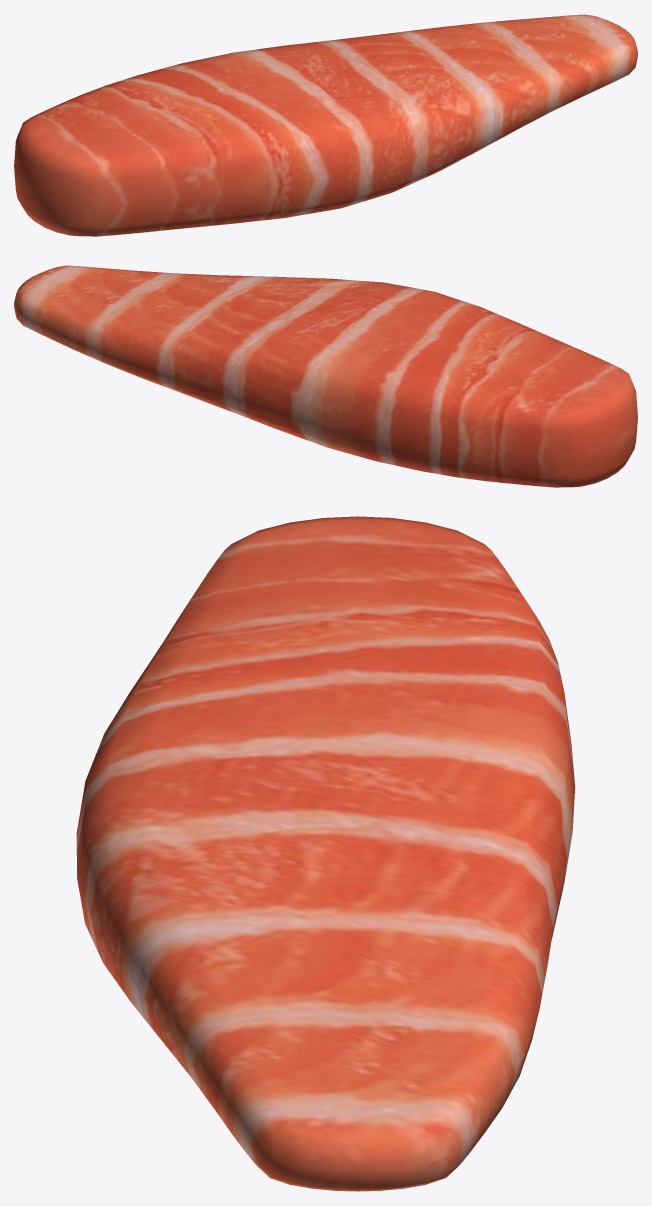
The model's file is fishPiece.fbx.
The picture shows the model from 3 angles, top to bottom: view 1: azimuth 30°, elevation 25°; view 2: azimuth 150°, elevation 25°; view 3: azimuth 270°, elevation 25°; orthographic projection. The views are drawn at different scales.
Parts seen in each view (by area): view 1: Cube; view 2: Cube; view 3: Cube.
Boxes of the visible parts, x1,y1,x2,y2 form: Cube: [14, 14, 637, 236]; Cube: [14, 265, 637, 487]; Cube: [76, 516, 575, 1191].
Bounding box in the file's own units: 175 × 27.68 × 62.7.
